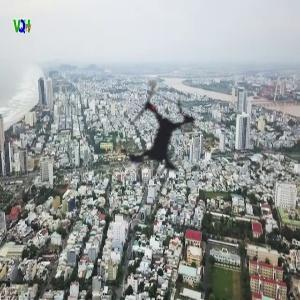drone: (82, 59, 232, 209)
